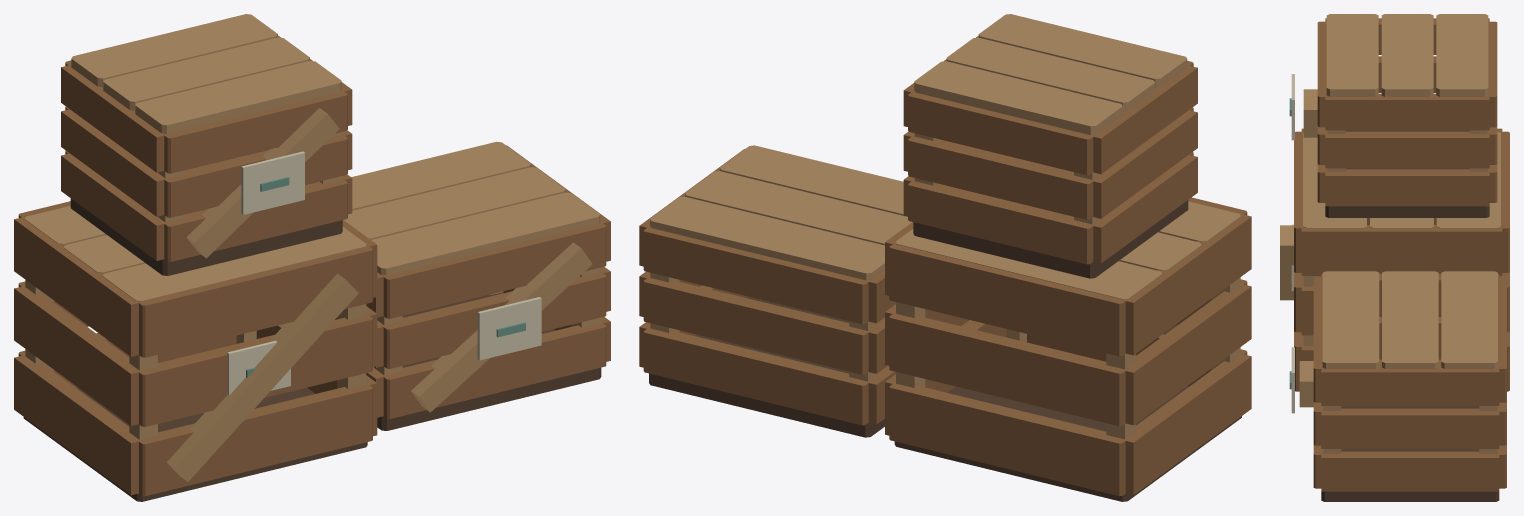
The model's file is crates_station.glb.
3 renders of one model, left to right at view 1: azimuth 30°, elevation 25°; view 2: azimuth 150°, elevation 25°; view 3: azimuth 270°, elevation 25°, orthographic. The views are drawn at different scales.
Parts seen in each view (by area): view 1: geometry; view 2: geometry; view 3: geometry.
Part boxes in pixels (left/top/right/bottom): geometry: left=14, top=14, right=610, bottom=501; geometry: left=639, top=14, right=1251, bottom=501; geometry: left=1280, top=14, right=1509, bottom=501.
Size of the model in its own units: 1.75 by 1.21 by 0.825.
